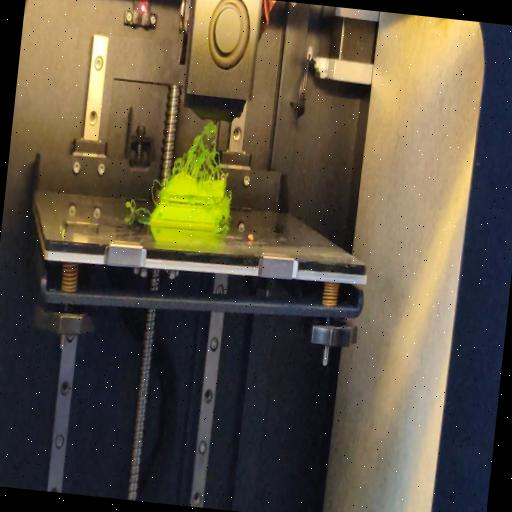spaghetti: (170, 114, 232, 184), (124, 196, 154, 219), (148, 176, 162, 204), (219, 219, 232, 233)
